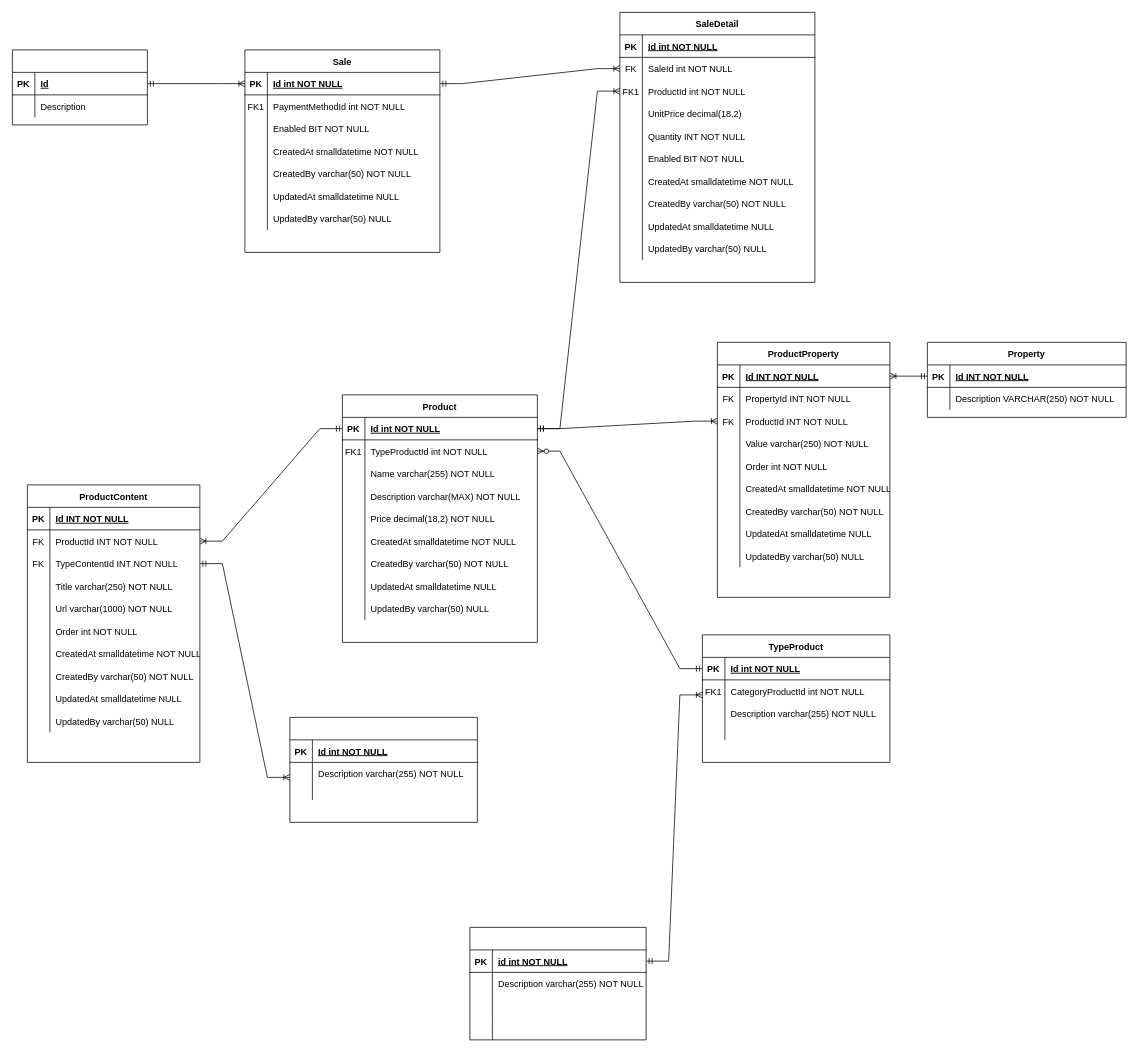
Image size: 1139x1052. Some labels were removed from this diagram. The box of each missing label's shape, as (x1, y1, x2, y2) in pixels:
CategoryProduct: (469, 927, 646, 1040)
PaymentMethod: (12, 49, 147, 125)
TypeContent: (289, 717, 477, 822)
